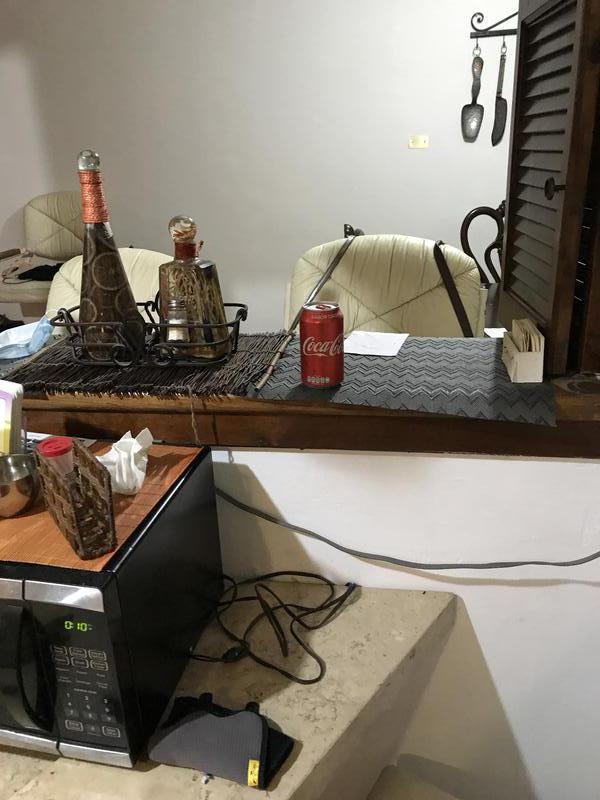coca_cola: (299, 300, 347, 392)
